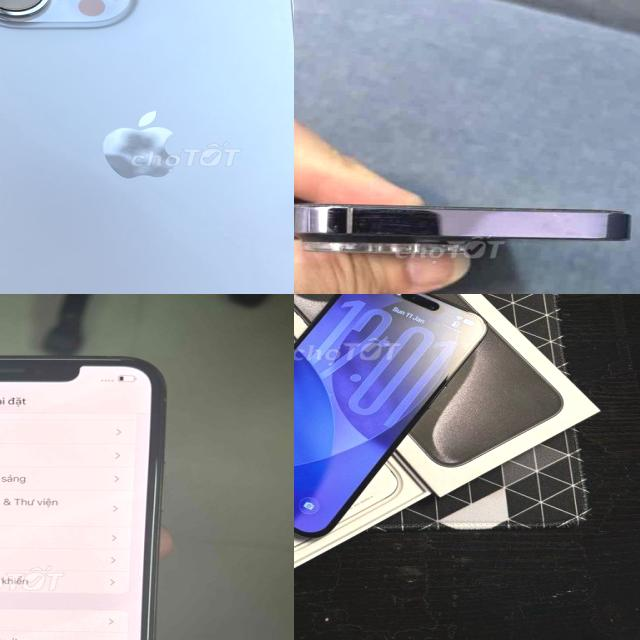scratch: (298, 205, 412, 232), (551, 208, 585, 225)
